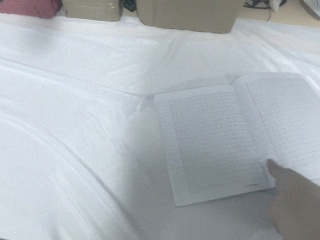box: (134, 1, 248, 35), (60, 1, 123, 23)
